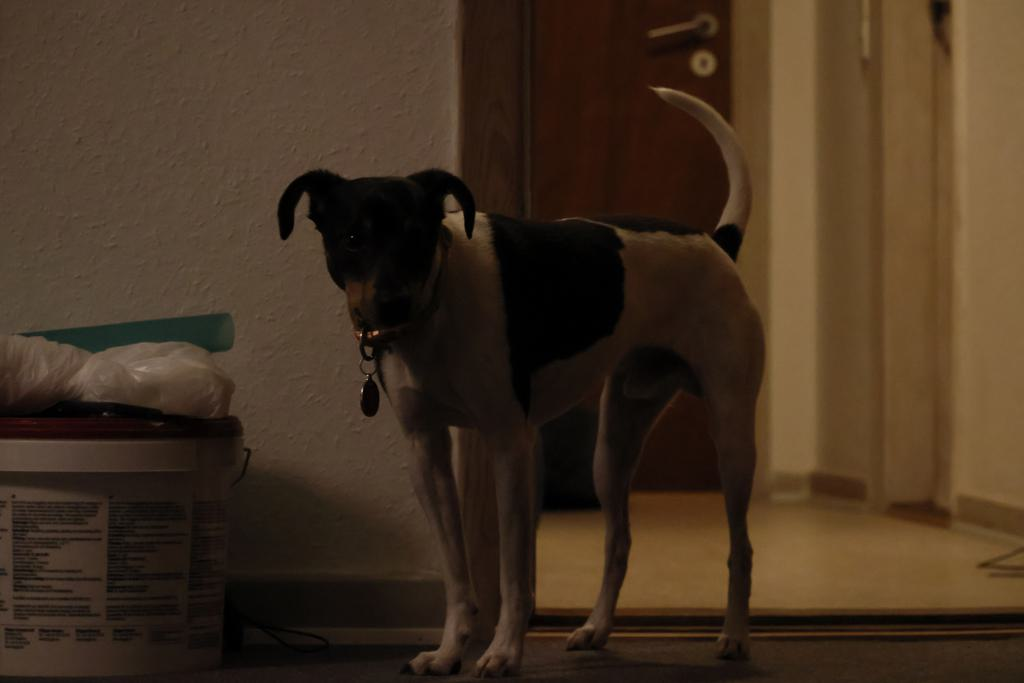Dog: (271, 74, 777, 683)
